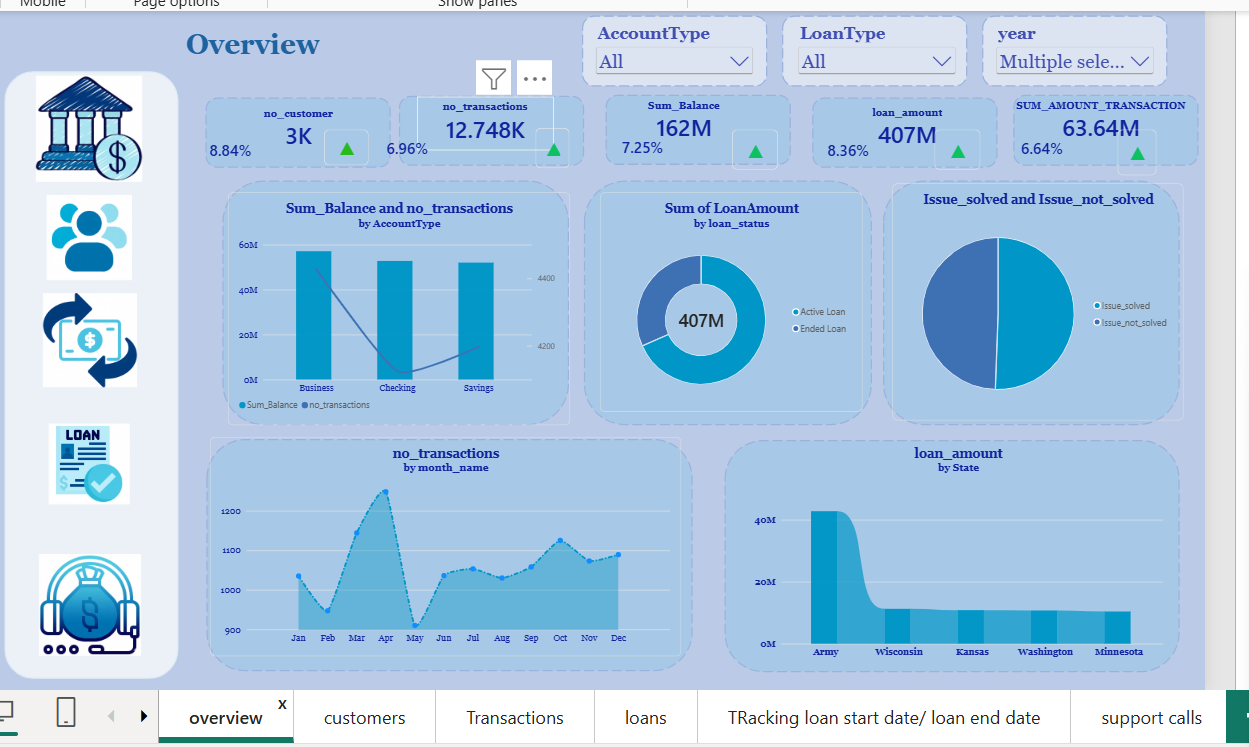

What the dashboard file says about the page in this screenshot:
{"tool":"powerbi","page":{"name":"overview","canvas":[1920,1080],"ordinal":0},"visuals":[{"type":"cardVisual","fields":{"Data":["calculation_overiew.no_transactions"]},"box":[668.1,136,217.1,85.9],"z":0},{"type":"cardVisual","fields":{"Data":["calculation_overiew.no_customer"]},"box":[367.4,143.2,224.3,90.7],"z":1000},{"type":"cardVisual","fields":{"Data":["calculation_overiew.SUM_AMOUNT_TRANSACTION"]},"box":[1600.9,131.2,310.2,88.3],"z":2000},{"type":"cardVisual","fields":{"Data":["calculation_overiew.Sum_Balance"]},"box":[978.2,131.2,229,88.3],"z":3000},{"type":"cardVisual","fields":{"Data":["calculation_overiew.loan_amount"]},"box":[1329,138.4,238.6,97.8],"z":4000},{"type":"cardVisual","fields":{"Data":["calculation_overiew.show_customer2"]},"box":[322.1,189,171.8,52.5],"z":5000},{"type":"cardVisual","fields":{"Data":["calculation_overiew.show_transact"]},"box":[603.6,186.1,217.1,50.1],"z":6000},{"type":"cardVisual","fields":{"Data":["calculation_overiew.show_balance"]},"box":[978.2,183,174.2,64.4],"z":7000},{"type":"cardVisual","fields":{"Data":["calculation_overiew.show_loan_Amount"]},"box":[1305.1,193.3,143.2,54.9],"z":8000},{"type":"cardVisual","fields":{"Data":["calculation_overiew.show_amount_Transaction"]},"box":[1612.9,195.6,143.2,42.9],"z":9000},{"type":"lineClusteredColumnComboChart","fields":{"Category":["Accounts.AccountType"],"Y":["calculation_overiew.Sum_Balance"],"Y2":["calculation_overiew.no_transactions"]},"box":[367.4,288.7,544,369.8],"z":10000},{"type":"donutChart","fields":{"Category":["Loans.loan_status"],"Y":["Sum(Loans.LoanAmount)"]},"box":[959.1,288.7,417.5,348.3],"z":11000},{"type":"lineChart","fields":{"Category":["calender.month_name"],"Y":["calculation_overiew.no_transactions"]},"box":[338.8,677.6,749.2,348.3],"z":12000},{"type":"ribbonChart","fields":{"Category":["customers.State"],"Y":["calculation_overiew.loan_amount"]},"box":[1188.2,677.6,682.4,369.8],"z":13000},{"type":"pieChart","fields":{"Y":["customer_service.Issue_solved","customer_service.Issue_not_solved"]},"box":[1424.4,274.4,462.9,377],"z":14000},{"type":"slicer","fields":{"Values":["calender.year"]},"box":[1584.2,19.1,260.1,85.9],"z":15000},{"type":"cardVisual","fields":{"Data":["calculation_overiew.arrow_customer"]},"box":[520.1,188.5,71.6,57.3],"z":16000},{"type":"cardVisual","fields":{"Data":["calculation_overiew.arrow_no_transactions"]},"box":[856.5,186.1,54.9,64.4],"z":17000},{"type":"cardVisual","fields":{"Data":["calculation_overiew.arrow_amount_Transaction"]},"box":[1782.3,188.5,62,74],"z":18000},{"type":"cardVisual","fields":{"Data":["calculation_overiew.arrow_loan_amount"]},"box":[1491.2,188.5,74,64.4],"z":19000},{"type":"cardVisual","fields":{"Data":["calculation_overiew.arrow_sum_balance"]},"box":[1169.1,188.5,74,64.4],"z":20000},{"type":"slicer","fields":{"Values":["Loans.LoanType"]},"box":[1269.3,19.1,260.1,95.4],"z":21000},{"type":"slicer","fields":{"Values":["Accounts.AccountType"]},"box":[947.2,19.1,260.1,95.4],"z":22000},{"type":"image","box":[36.6,102.6,221.9,169.4],"z":23000},{"type":"shape","box":[272,0,269.6,105],"z":24000},{"type":"image","box":[42.5,449.6,210,150],"z":26000},{"type":"image","box":[79.5,274.9,136,171.8],"z":27000},{"type":"image","box":[62.3,656.5,169.4,128.8],"z":28000},{"type":"image","box":[52.1,863.7,190.9,162.2],"z":29000}]}

Visuals, with their boxes on the page's 1920x1080 design canvas (x1, y1, x2, y2). These are canvas units, not pixel positions in the 1249x747 screenshot, which may show the page scaled, cropped or inside an application window:
cardVisual - calculation_overiew.no_transactions: (668,136,885,222)
cardVisual - calculation_overiew.no_customer: (367,143,592,234)
cardVisual - calculation_overiew.SUM_AMOUNT_TRANSACTION: (1601,131,1911,220)
cardVisual - calculation_overiew.Sum_Balance: (978,131,1207,220)
cardVisual - calculation_overiew.loan_amount: (1329,138,1568,236)
cardVisual - calculation_overiew.show_customer2: (322,189,494,242)
cardVisual - calculation_overiew.show_transact: (604,186,821,236)
cardVisual - calculation_overiew.show_balance: (978,183,1152,247)
cardVisual - calculation_overiew.show_loan_Amount: (1305,193,1448,248)
cardVisual - calculation_overiew.show_amount_Transaction: (1613,196,1756,238)
lineClusteredColumnComboChart - Accounts.AccountType x calculation_overiew.Sum_Balance: (367,289,911,658)
donutChart - Loans.loan_status x Sum(Loans.LoanAmount): (959,289,1377,637)
lineChart - calender.month_name x calculation_overiew.no_transactions: (339,678,1088,1026)
ribbonChart - customers.State x calculation_overiew.loan_amount: (1188,678,1871,1047)
pieChart - customer_service.Issue_solved x customer_service.Issue_not_solved: (1424,274,1887,651)
slicer - calender.year: (1584,19,1844,105)
cardVisual - calculation_overiew.arrow_customer: (520,188,592,246)
cardVisual - calculation_overiew.arrow_no_transactions: (856,186,911,250)
cardVisual - calculation_overiew.arrow_amount_Transaction: (1782,188,1844,262)
cardVisual - calculation_overiew.arrow_loan_amount: (1491,188,1565,253)
cardVisual - calculation_overiew.arrow_sum_balance: (1169,188,1243,253)
slicer - Loans.LoanType: (1269,19,1529,114)
slicer - Accounts.AccountType: (947,19,1207,114)
image: (37,103,258,272)
shape: (272,0,542,105)
image: (42,450,252,600)
image: (80,275,216,447)
image: (62,656,232,785)
image: (52,864,243,1026)
